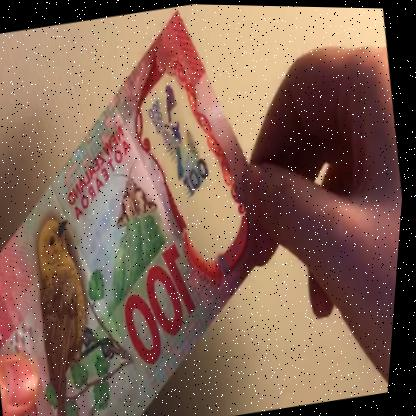100B: (136, 75, 223, 206)
